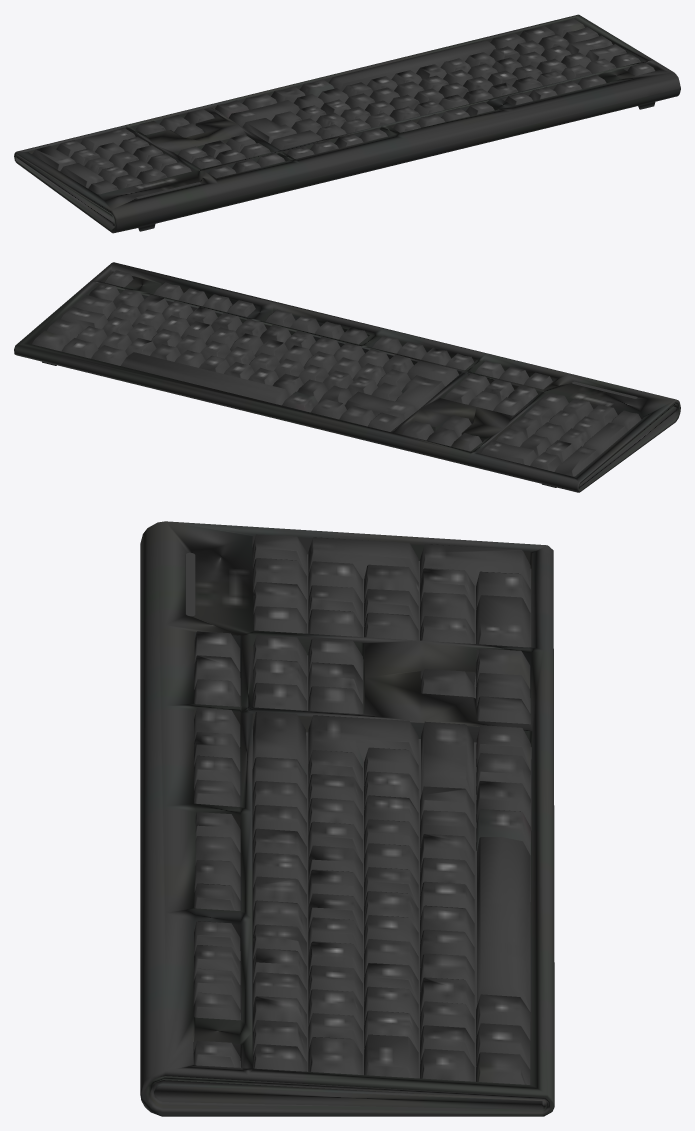
File: keyboard.glb
3 views of the same model, one above another, from view 1: azimuth 30°, elevation 25°; view 2: azimuth 150°, elevation 25°; view 3: azimuth 270°, elevation 25° (orthographic). The views are drawn at different scales.
Visible parts, largest first — view 1: sm_computer_keyboard_a01_mesh_00; view 2: sm_computer_keyboard_a01_mesh_00; view 3: sm_computer_keyboard_a01_mesh_00.
Part boxes in pixels (left/top/right/bottom): sm_computer_keyboard_a01_mesh_00: left=14, top=14, right=680, bottom=233; sm_computer_keyboard_a01_mesh_00: left=14, top=262, right=680, bottom=492; sm_computer_keyboard_a01_mesh_00: left=140, top=521, right=554, bottom=1116.
Size of the model in its own units: 0.44 by 0.02 by 0.14.
1 material, 1 textured.
